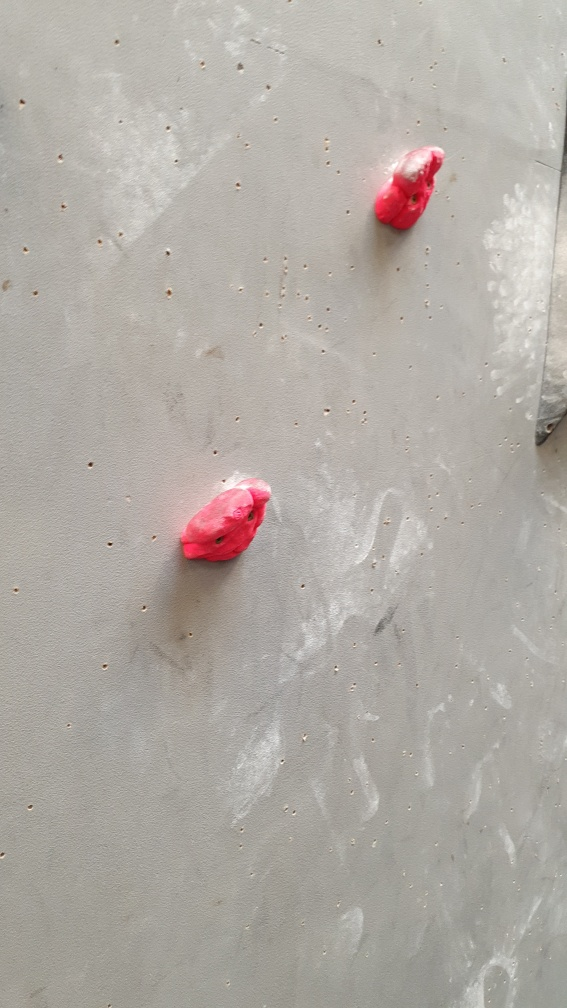Jug: (176, 475, 274, 574), (373, 145, 446, 236)
